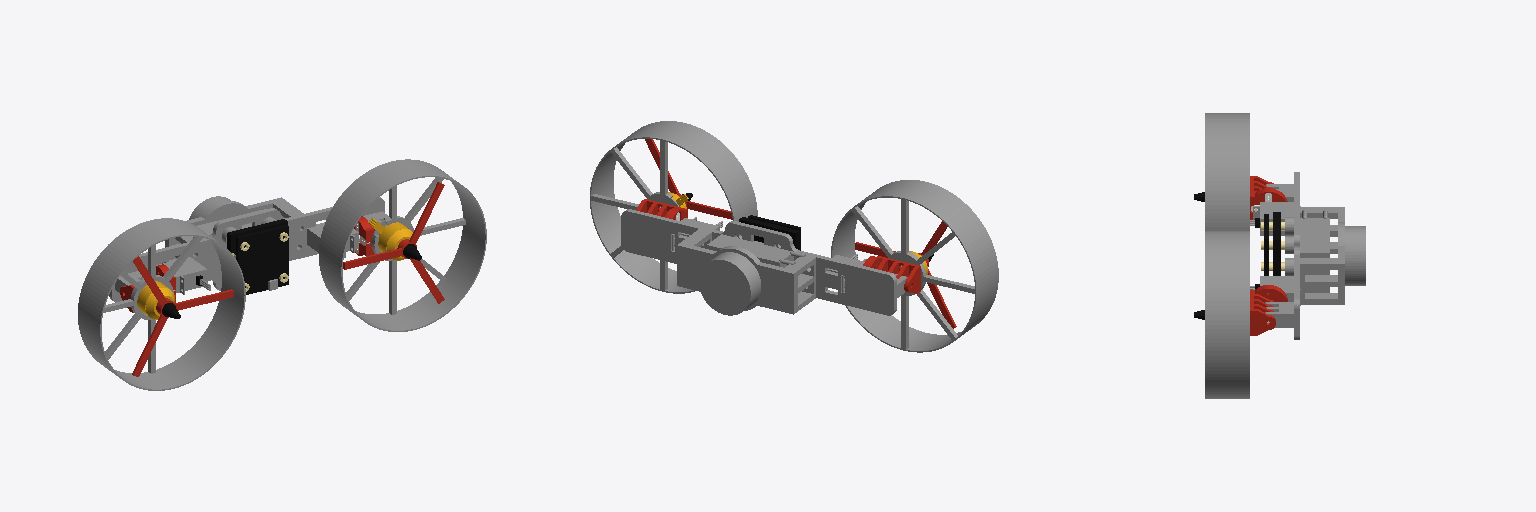
File: Bicopter.obj
3 views of the same model, side by side, from view 1: azimuth 30°, elevation 25°; view 2: azimuth 150°, elevation 25°; view 3: azimuth 270°, elevation 25° (orthographic).
Parts seen in each view (by area): view 1: Body6:1, Body6, Body1, Body2, Body1:12, Body1:2, Body1:15, Body1:6, Body1:14, Body1:11, Body1:8, Body1:4; view 2: Body6, Body6:1, Body1, Body1:2, Body1:1, Body1:3, Body1:9, Body1:12, Body1:15, Body1:10; view 3: Body6:1, Body6, Body1:2, Body1, Body1:3, Body1:1, Body1:10, Body1:6, Body1:9, Body1:8.
Part boxes in pixels (x1,y1,x2,y2): Body6:1: (319, 159, 486, 331); Body6: (78, 218, 245, 390); Body1: (109, 197, 388, 302); Body2: (236, 225, 288, 294); Body1:12: (132, 256, 233, 376); Body1:2: (165, 197, 303, 259); Body1:15: (343, 182, 444, 303); Body1:6: (156, 257, 210, 294); Body1:14: (378, 222, 412, 260); Body1:11: (137, 281, 174, 319); Body1:8: (307, 224, 359, 257); Body1:4: (227, 219, 287, 258); Body6: (831, 180, 998, 352); Body6:1: (590, 121, 757, 293); Body1: (621, 209, 907, 315); Body1:2: (677, 229, 815, 314); Body1:1: (699, 252, 760, 315); Body1:3: (707, 234, 805, 267); Body1:9: (863, 256, 920, 293); Body1:12: (855, 221, 956, 328); Body1:15: (645, 139, 732, 219); Body1:10: (636, 199, 687, 220); Body6:1: (1205, 231, 1249, 398); Body6: (1205, 113, 1249, 230); Body1:2: (1300, 207, 1344, 304); Body1: (1265, 172, 1299, 339); Body1:3: (1300, 209, 1329, 292); Body1:1: (1345, 226, 1365, 285); Body1:10: (1250, 285, 1287, 335); Body1:6: (1250, 202, 1300, 235); Body1:9: (1250, 176, 1287, 219); Body1:8: (1250, 276, 1300, 305).
Size of the model in its own units: 297 by 112 by 115.